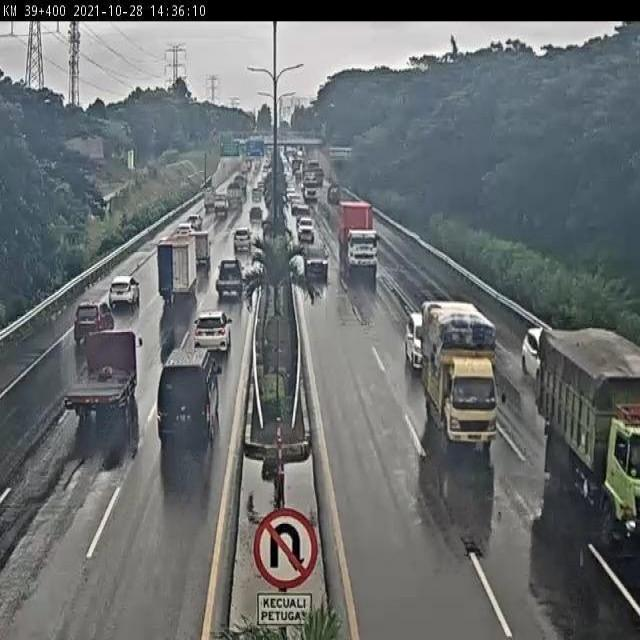big truck: (516, 353, 640, 530), (334, 196, 387, 268), (308, 248, 325, 276)
car: (143, 339, 220, 469), (184, 299, 236, 372), (207, 254, 248, 318), (102, 263, 141, 321), (71, 301, 114, 344), (399, 313, 426, 364), (227, 229, 249, 271), (525, 327, 541, 369), (168, 230, 181, 253), (297, 210, 309, 230), (248, 214, 258, 238), (180, 221, 193, 239), (212, 202, 223, 222)
small truck: (427, 318, 510, 446), (72, 332, 129, 448), (147, 234, 198, 310), (185, 232, 207, 276)
